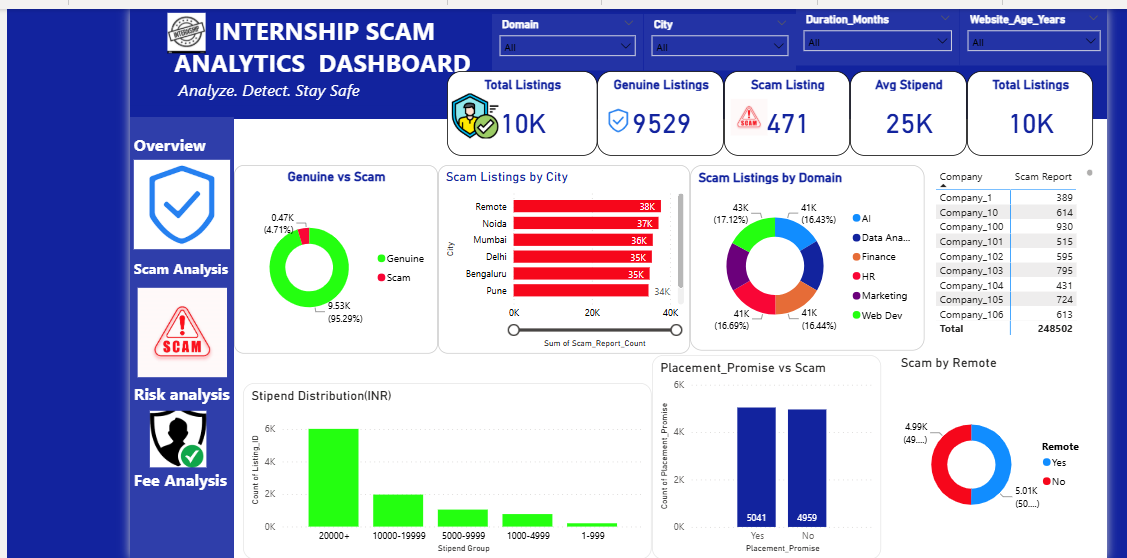

The dashboard page shown, as its layout file describes it:
{"tool":"powerbi","page":{"name":"Page 1","canvas":[1280,720],"ordinal":0},"visuals":[{"type":"textbox","box":[0,0,474.3,126.5],"z":0},{"type":"textbox","box":[136.1,144.4,1143.9,576.1],"z":1000},{"type":"card","title":"Total Listings","fields":{"Values":["Count(Sheet.Listing_ID)"]},"box":[415.2,81.1,196.6,111.4],"z":2000},{"type":"card","title":"Genuine Listings","fields":{"Values":["CountNonNull(Sheet.Risk_Label)"]},"box":[611.8,81.1,166.4,111.4],"z":3000},{"type":"card","title":"Scam Listing","fields":{"Values":["CountNonNull(Sheet.Risk_Label)"]},"box":[778.2,81.1,165,111.4],"z":4000},{"type":"card","title":"Avg Stipend","fields":{"Values":["Avg(Sheet.Stipend)"]},"box":[943.2,81.1,152.6,111.4],"z":5000},{"type":"card","title":"Total Listings","fields":{"Values":["CountNonNull(Sheet.Listing_ID)"]},"box":[1095.8,81.1,165,111.4],"z":6000},{"type":"donutChart","title":"Genuine vs Scam","fields":{"Category":["Sheet.Risk_Label"],"Y":["CountNonNull(Sheet.Risk_Label)"]},"box":[136.1,204.9,266.7,247.5],"z":7000},{"type":"barChart","title":"Scam Listings by City","fields":{"Category":["Sheet.City"],"Y":["Sum(Sheet.Scam_Report_Count)"]},"box":[402.8,204.9,330,247.5],"z":8000},{"type":"donutChart","title":"Scam Listings by Domain","fields":{"Y":["Sum(Sheet.Scam_Report_Count)"],"Series":["Sheet.Domain"]},"box":[732.8,204.9,306.6,243.4],"z":9000},{"type":"pivotTable","fields":{"Values":["Sum(Sheet.Scam_Report_Count)"],"Rows":["Sheet.Company"]},"box":[1050.4,204.9,215.9,228.2],"z":10000},{"type":"donutChart","title":"Scam by Remote ","fields":{"Category":["Sheet.Remote"],"Y":["CountNonNull(Sheet.Remote)"]},"box":[1003.7,452.3,262.6,268.1],"z":11000},{"type":"columnChart","title":"Stipend Distribution(INR)","fields":{"Category":["Sheet.Stipend Group"],"Y":["CountNonNull(Sheet.Listing_ID)"]},"box":[148.5,489.5,534.8,231],"z":12000},{"type":"columnChart","title":" Placement_Promise vs Scam","fields":{"Category":["Sheet.Placement_Promise"],"Y":["CountNonNull(Sheet.Placement_Promise)"]},"box":[683.3,452.3,299.7,268.1],"z":13000},{"type":"slicer","fields":{"Values":["Sheet.Domain"]},"box":[474.3,6.9,198,74.2],"z":14000},{"type":"slicer","fields":{"Values":["Sheet.City"]},"box":[672.3,6.9,199.4,74.2],"z":15000},{"type":"slicer","fields":{"Values":["Sheet.Duration_Months"]},"box":[871.7,0,214.5,74.2],"z":16000},{"type":"slicer","fields":{"Values":["Sheet.Website_Age_Years"]},"box":[1086.1,0,193.9,74.2],"z":17000},{"type":"image","box":[0,0,147.9,62.8],"z":18000},{"type":"image","box":[772.4,112.6,75.9,57.6],"z":19000},{"type":"image","box":[615.3,99.5,48.4,92.9],"z":20000},{"type":"image","box":[416.3,99.5,70.7,81.2],"z":21000},{"type":"textbox","box":[0,141.4,136.1,578.6],"z":22000},{"type":"image","box":[0,360,136.1,127],"z":23000},{"type":"image","box":[0,192.4,136.1,127],"z":24000},{"type":"image","box":[0,521,127,83.8],"z":25000}]}

Visuals, with their boxes on the page's 1280x720 design canvas (x1, y1, x2, y2). These are canvas units, not pixel positions in the 1127x558 screenshot, which may show the page scaled, cropped or inside an application window:
textbox: (0, 0, 474, 126)
textbox: (136, 144, 1280, 720)
"Total Listings" card: (415, 81, 612, 192)
"Genuine Listings" card: (612, 81, 778, 192)
"Scam Listing" card: (778, 81, 943, 192)
"Avg Stipend" card: (943, 81, 1096, 192)
"Total Listings" card: (1096, 81, 1261, 192)
"Genuine vs Scam" donutChart: (136, 205, 403, 452)
"Scam Listings by City" barChart: (403, 205, 733, 452)
"Scam Listings by Domain" donutChart: (733, 205, 1039, 448)
pivotTable - Sum(Sheet.Scam_Report_Count) x Sheet.Company: (1050, 205, 1266, 433)
"Scam by Remote " donutChart: (1004, 452, 1266, 720)
"Stipend Distribution(INR)" columnChart: (148, 490, 683, 720)
" Placement_Promise vs Scam" columnChart: (683, 452, 983, 720)
slicer - Sheet.Domain: (474, 7, 672, 81)
slicer - Sheet.City: (672, 7, 872, 81)
slicer - Sheet.Duration_Months: (872, 0, 1086, 74)
slicer - Sheet.Website_Age_Years: (1086, 0, 1280, 74)
image: (0, 0, 148, 63)
image: (772, 113, 848, 170)
image: (615, 100, 664, 192)
image: (416, 100, 487, 181)
textbox: (0, 141, 136, 720)
image: (0, 360, 136, 487)
image: (0, 192, 136, 319)
image: (0, 521, 127, 605)
